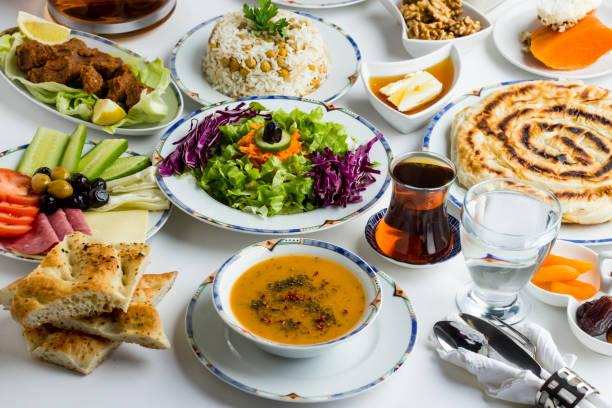Braised Crucian Carp: (182, 234, 418, 406), (160, 98, 396, 232), (424, 80, 609, 239), (172, 2, 361, 114), (2, 23, 185, 135), (2, 140, 168, 262)
